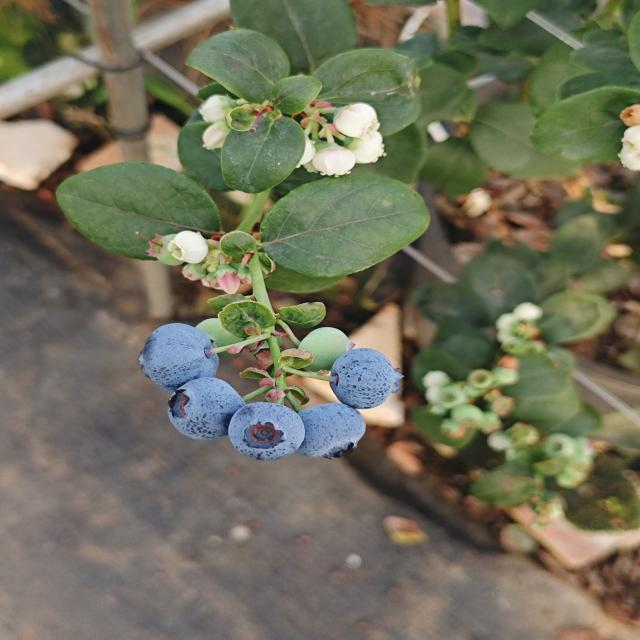ripe: (136, 321, 221, 393), (165, 376, 247, 442), (326, 346, 406, 411), (226, 400, 307, 462), (296, 404, 369, 464)
